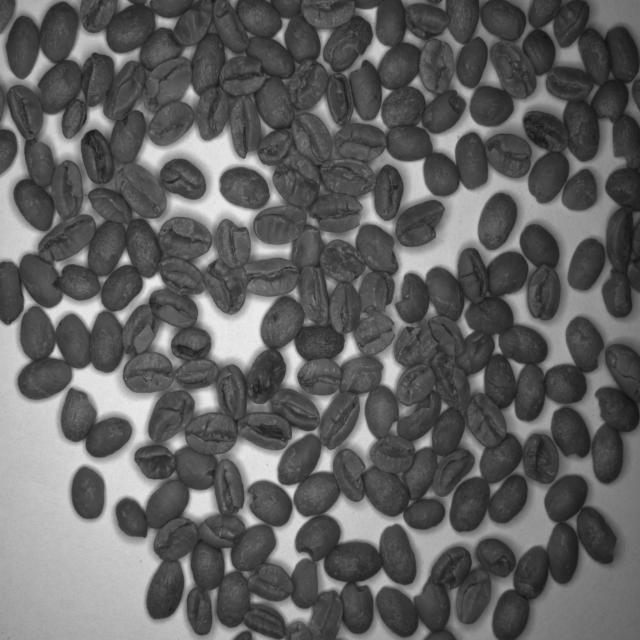bad: (153, 213, 213, 265), (489, 37, 538, 100), (142, 52, 193, 111), (115, 163, 167, 219), (321, 16, 373, 70), (272, 153, 320, 210), (36, 214, 96, 259), (145, 390, 196, 442), (104, 59, 146, 122), (203, 255, 246, 316), (577, 505, 620, 566), (36, 58, 82, 114), (19, 252, 63, 310), (465, 392, 509, 450), (294, 513, 344, 564), (394, 200, 446, 247), (593, 384, 640, 436), (564, 313, 604, 374), (248, 476, 294, 529), (318, 156, 376, 198), (333, 119, 389, 162), (308, 193, 364, 236), (396, 390, 442, 442), (430, 352, 470, 411), (319, 236, 367, 285), (603, 203, 635, 276), (356, 222, 399, 276), (322, 390, 362, 448), (271, 387, 321, 433), (290, 112, 331, 168), (184, 410, 236, 454), (455, 566, 493, 626), (550, 406, 592, 460), (248, 347, 286, 406), (252, 204, 308, 244), (604, 342, 640, 404), (243, 257, 300, 296), (522, 108, 569, 155), (485, 132, 531, 180), (6, 83, 44, 141), (426, 264, 464, 322), (122, 352, 174, 394), (418, 36, 455, 95), (349, 57, 383, 121), (50, 157, 85, 219), (80, 126, 115, 188), (149, 285, 198, 329), (432, 447, 476, 496), (172, 0, 215, 50), (289, 58, 328, 113), (237, 412, 292, 451), (152, 516, 198, 562), (428, 545, 473, 592), (159, 157, 207, 201), (79, 47, 114, 107), (412, 576, 450, 631), (62, 386, 98, 444), (109, 109, 146, 165), (400, 448, 438, 502), (463, 296, 514, 336), (364, 383, 399, 441), (422, 90, 468, 134), (527, 263, 561, 322), (298, 264, 330, 326), (216, 214, 252, 269), (215, 361, 248, 421), (332, 448, 368, 503), (220, 53, 266, 96), (173, 445, 216, 491), (122, 304, 160, 356), (247, 560, 294, 602), (328, 278, 362, 336), (296, 354, 342, 396), (522, 432, 559, 484), (157, 256, 205, 296), (373, 162, 406, 220), (214, 0, 249, 54), (404, 2, 451, 42), (214, 457, 245, 517), (392, 322, 436, 364), (475, 536, 517, 580), (339, 353, 384, 394), (290, 219, 326, 270), (456, 329, 495, 376), (554, 0, 592, 48), (546, 63, 594, 101), (396, 270, 430, 323), (590, 77, 630, 122), (198, 513, 246, 550), (351, 314, 395, 354), (395, 363, 435, 407), (310, 587, 343, 640), (341, 581, 374, 634), (87, 187, 132, 225), (299, 0, 357, 29), (133, 444, 177, 482), (357, 269, 395, 312), (326, 71, 355, 127), (612, 112, 640, 170), (24, 138, 56, 188), (57, 264, 102, 298), (115, 496, 149, 541), (255, 125, 293, 164), (170, 327, 213, 361), (243, 604, 286, 638), (184, 587, 213, 637), (430, 314, 464, 356), (174, 358, 218, 389), (78, 0, 119, 33), (59, 100, 88, 140), (284, 617, 312, 640)
good: (373, 580, 421, 638), (321, 538, 382, 582), (540, 470, 589, 524), (378, 522, 418, 586), (361, 464, 409, 517), (477, 190, 518, 252), (374, 584, 421, 638), (40, 0, 79, 65), (145, 557, 185, 620), (144, 479, 192, 531), (276, 432, 322, 486), (564, 97, 601, 164), (590, 421, 627, 488), (448, 476, 490, 535), (526, 148, 570, 204), (16, 358, 73, 400), (105, 5, 157, 50), (218, 165, 270, 210), (484, 471, 529, 523), (545, 520, 580, 586), (146, 98, 194, 146), (246, 33, 295, 80), (124, 219, 161, 281), (260, 296, 304, 348), (567, 235, 607, 292), (6, 13, 40, 80), (56, 310, 93, 371), (376, 41, 421, 91), (91, 308, 124, 376), (512, 542, 550, 601), (604, 22, 640, 84), (228, 94, 262, 159), (230, 523, 276, 571), (87, 218, 125, 276), (254, 76, 294, 131), (498, 322, 548, 366), (216, 569, 252, 630), (293, 321, 346, 362), (454, 130, 490, 190), (478, 432, 522, 481), (485, 248, 528, 298), (19, 304, 56, 362), (519, 221, 561, 272), (15, 180, 56, 232), (578, 24, 612, 86), (71, 464, 106, 524), (491, 589, 532, 640), (468, 84, 515, 128), (100, 264, 144, 310), (86, 416, 133, 459), (293, 472, 340, 515), (192, 34, 224, 96), (479, 0, 526, 42), (385, 124, 434, 164), (195, 85, 229, 142), (382, 85, 426, 129), (236, 0, 284, 40), (368, 434, 416, 474), (456, 32, 490, 88), (484, 351, 516, 409), (544, 361, 587, 404), (283, 15, 321, 63), (140, 25, 184, 66), (457, 247, 489, 303), (422, 151, 460, 198), (191, 538, 225, 590), (515, 364, 546, 421), (431, 406, 466, 456), (288, 556, 320, 610), (441, 0, 482, 42), (604, 165, 640, 212), (561, 166, 598, 211), (1, 256, 25, 325), (522, 30, 558, 76), (600, 267, 632, 317), (374, 0, 407, 47), (403, 497, 446, 530), (525, 0, 562, 29)
